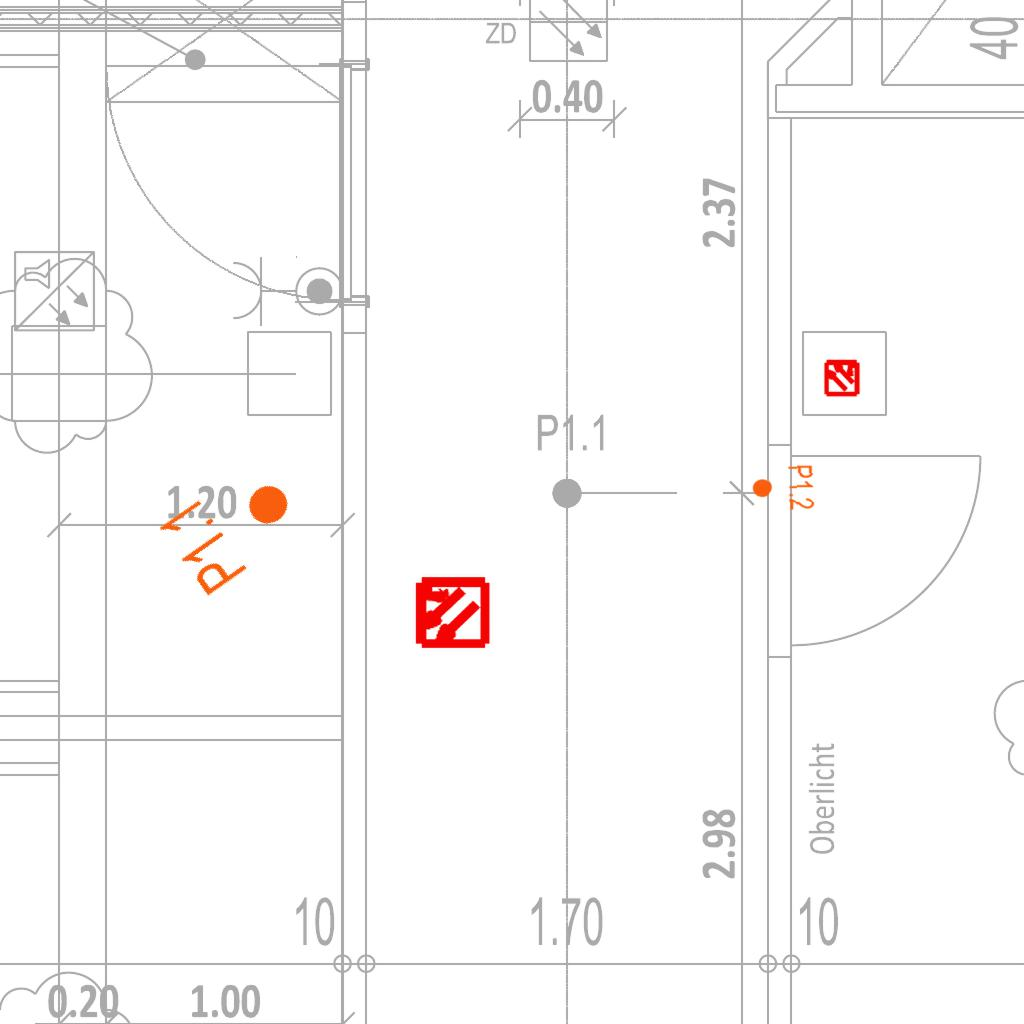Downlight_LED_Einbauleuchten_Flur: (153, 451, 312, 601), (750, 463, 816, 513)
OT_Multisensormelder_(Kombination_RMO_WMD): (394, 556, 507, 669), (814, 349, 870, 405)
